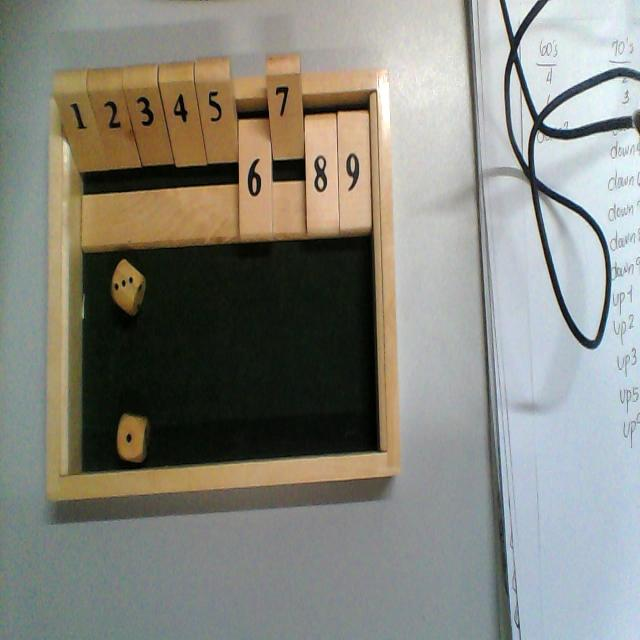1: (112, 407, 152, 474)
3: (107, 256, 149, 324)
O1: (54, 73, 90, 250)
O2: (89, 71, 125, 250)
O3: (124, 66, 160, 240)
O4: (159, 64, 195, 245)
O5: (196, 58, 234, 238)
O7: (266, 58, 306, 237)
